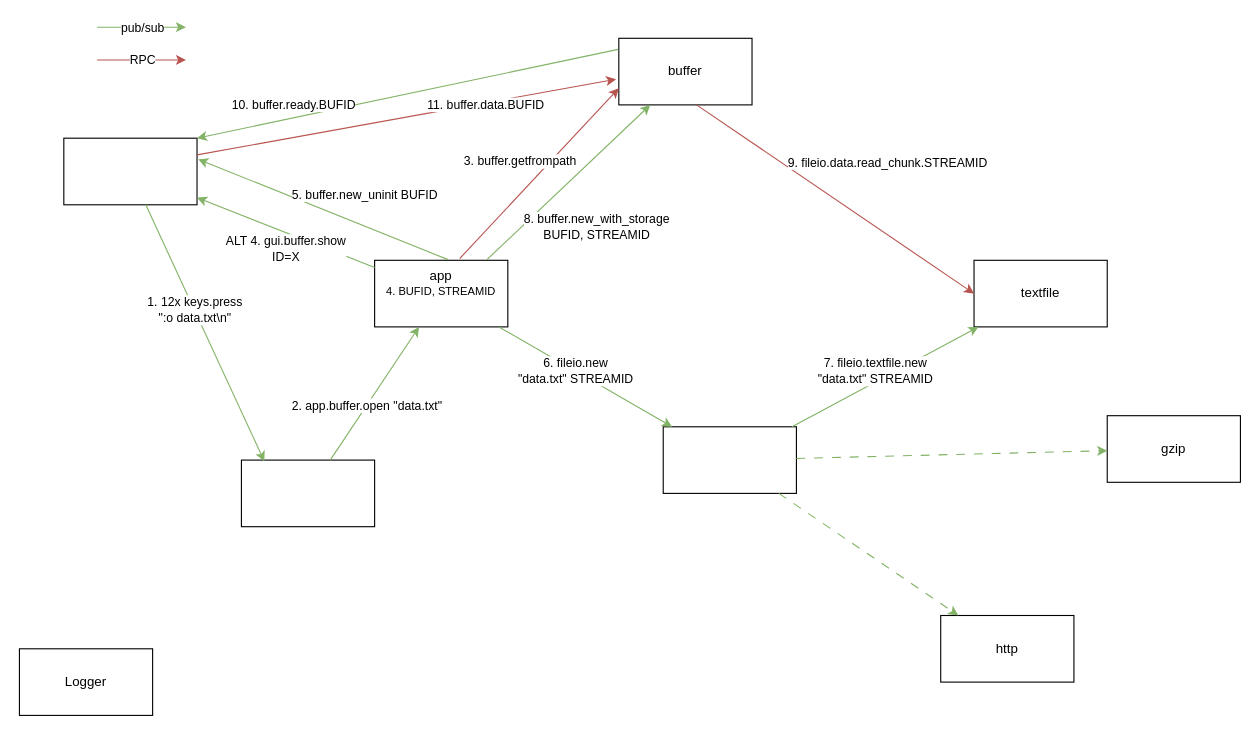
Image size: 1260x735. Some labels were removed from this diagram. The shapes that lost their labels are listed below. From the top down, each one's box as (x1, y1, x2, y2) in pixels, then its label:
(63, 137, 197, 205): GUI
(662, 426, 796, 493): fileio
(240, 459, 375, 527): motions/keymap
